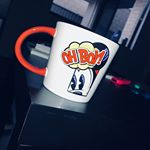cups: (13, 19, 122, 105)
